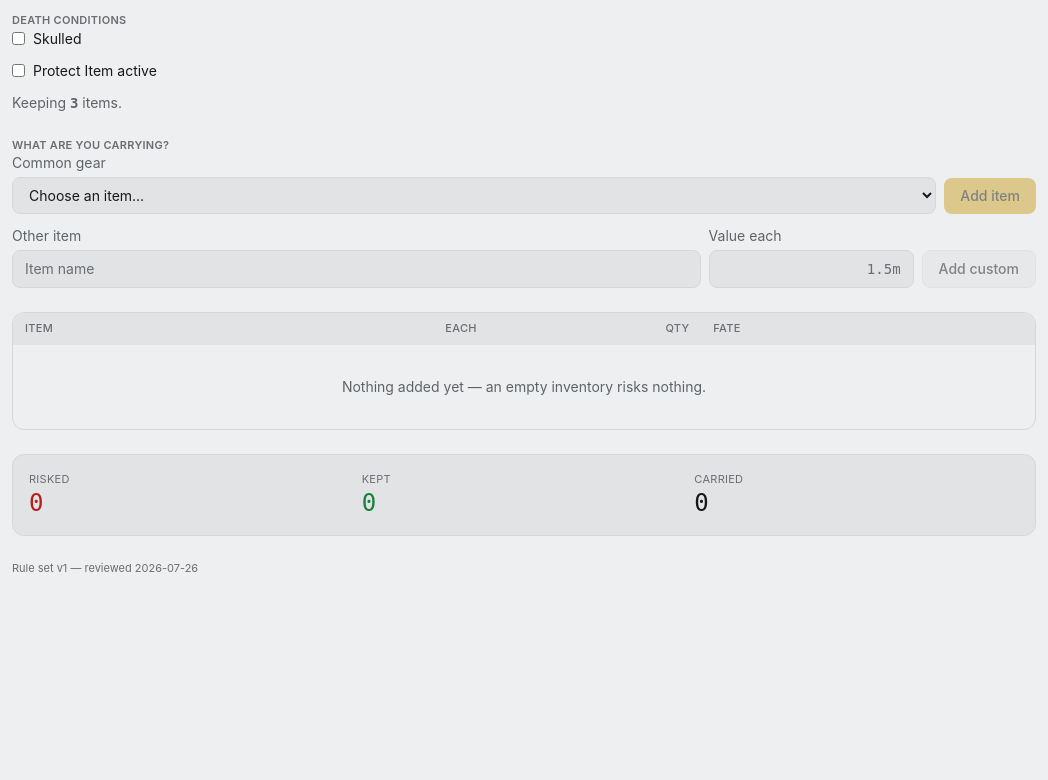
Test case: DeathRiskCalculator › multiplies a quantity into the risk
Select "Amulet of fury" in the dropdown labelled "Common gear". click: (474, 196)
box: [12,177,936,214]
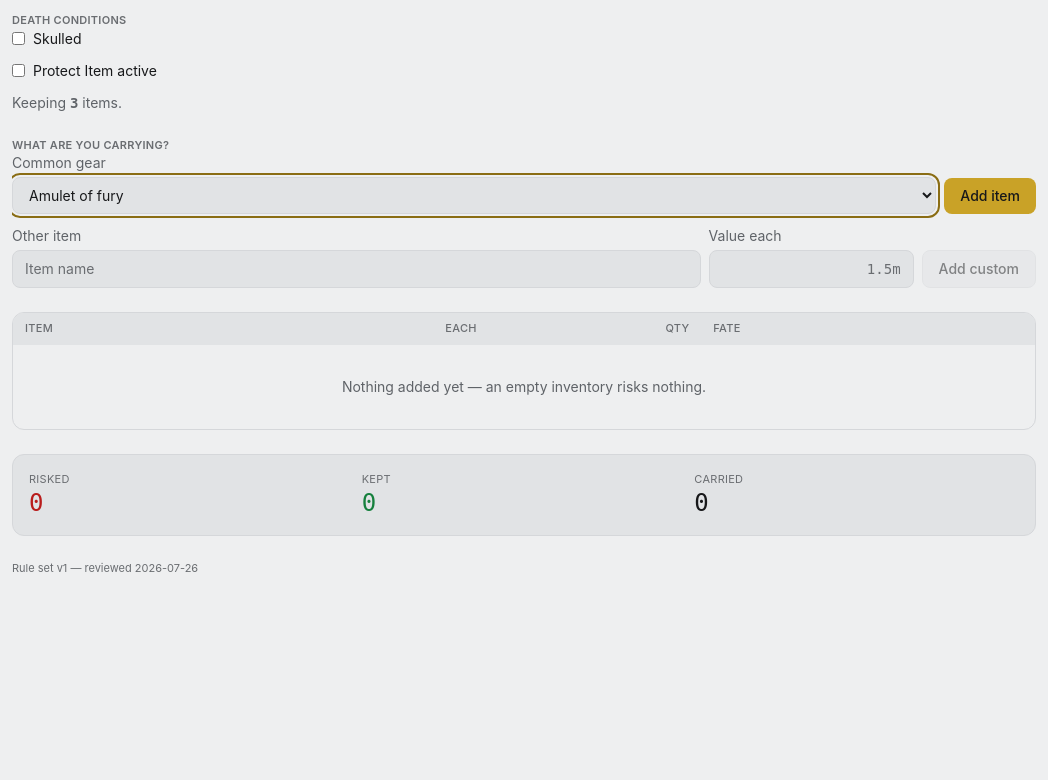
Click the button "Add item". click: (990, 196)
box: [944,178,1036,214]
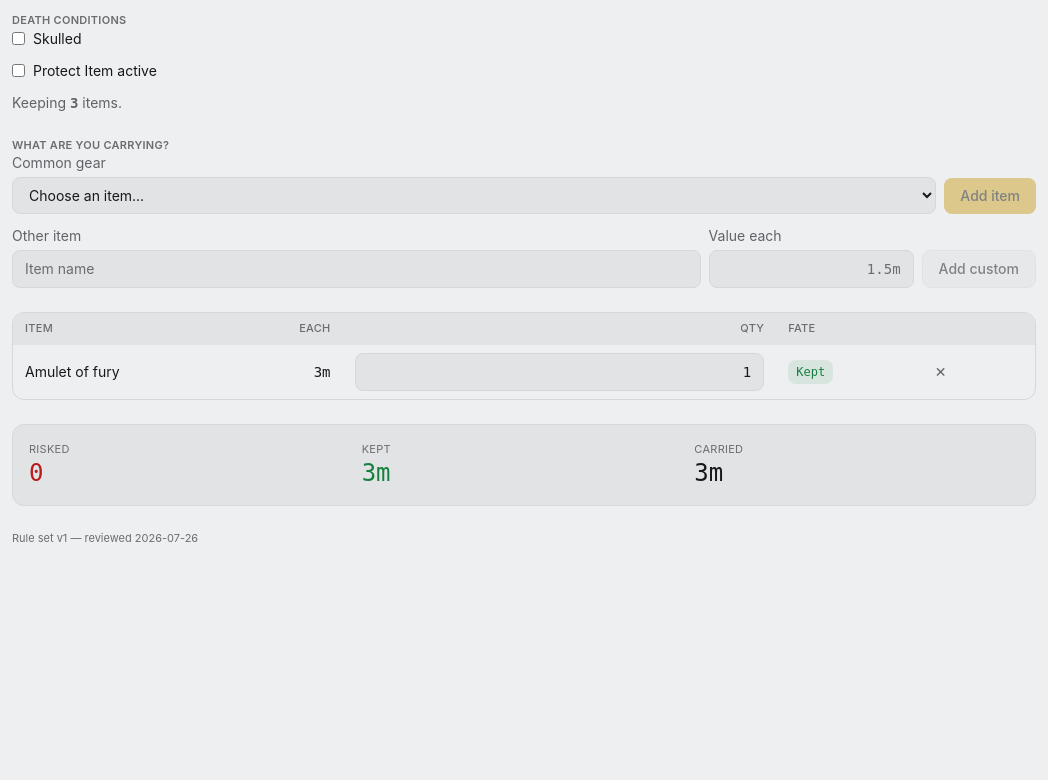
Click the checkbox labelled "Skulled". click: (18, 38)
box: [12,32,25,45]
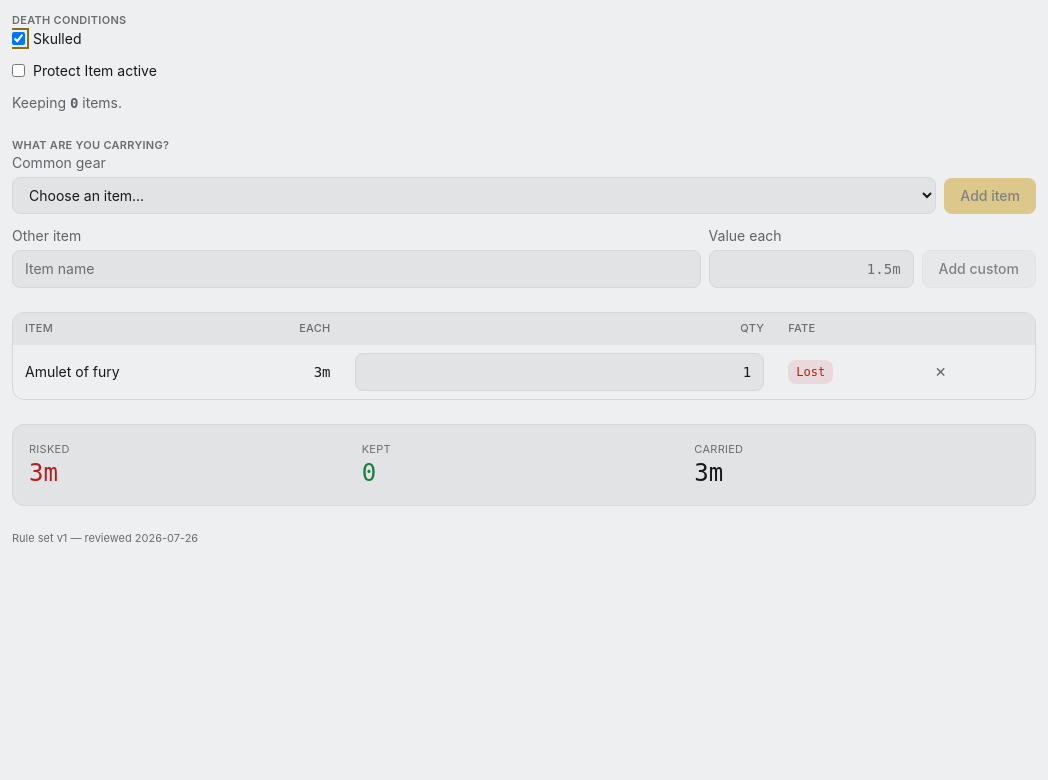
Replace the text in the field named "Quantity of Amulet of fury" with "10". click: (559, 372)
box: [354,353,764,391]
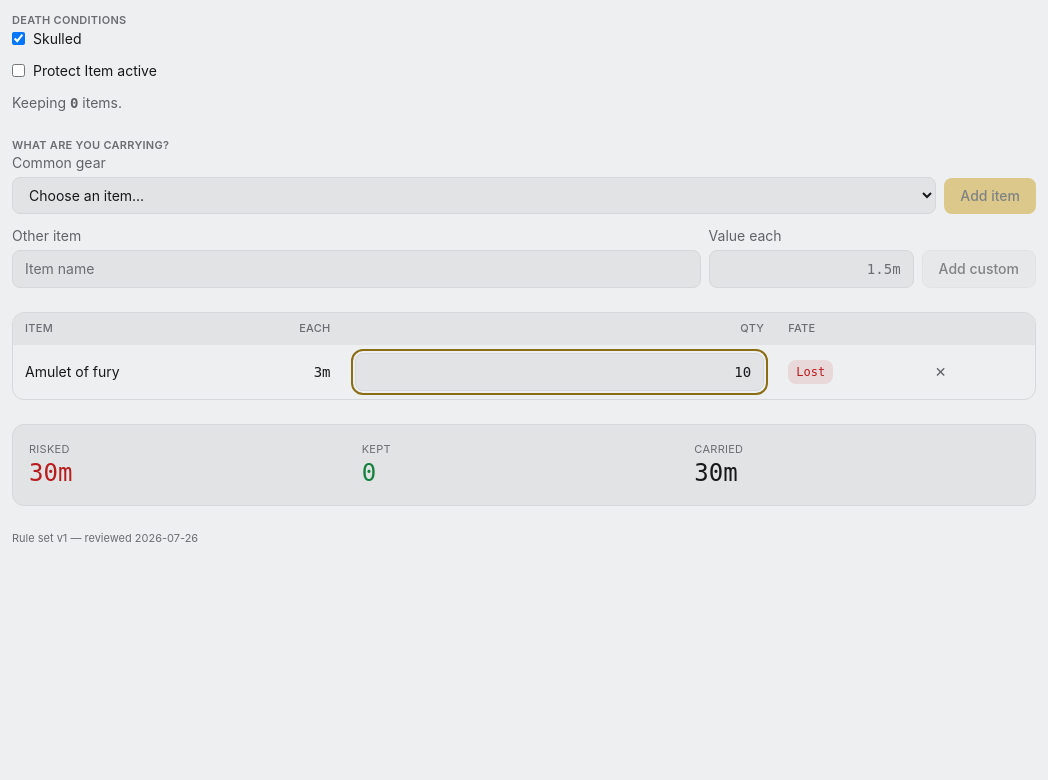
Result: the text "30m" below "Risked" is shown at [29,459,72,487]
